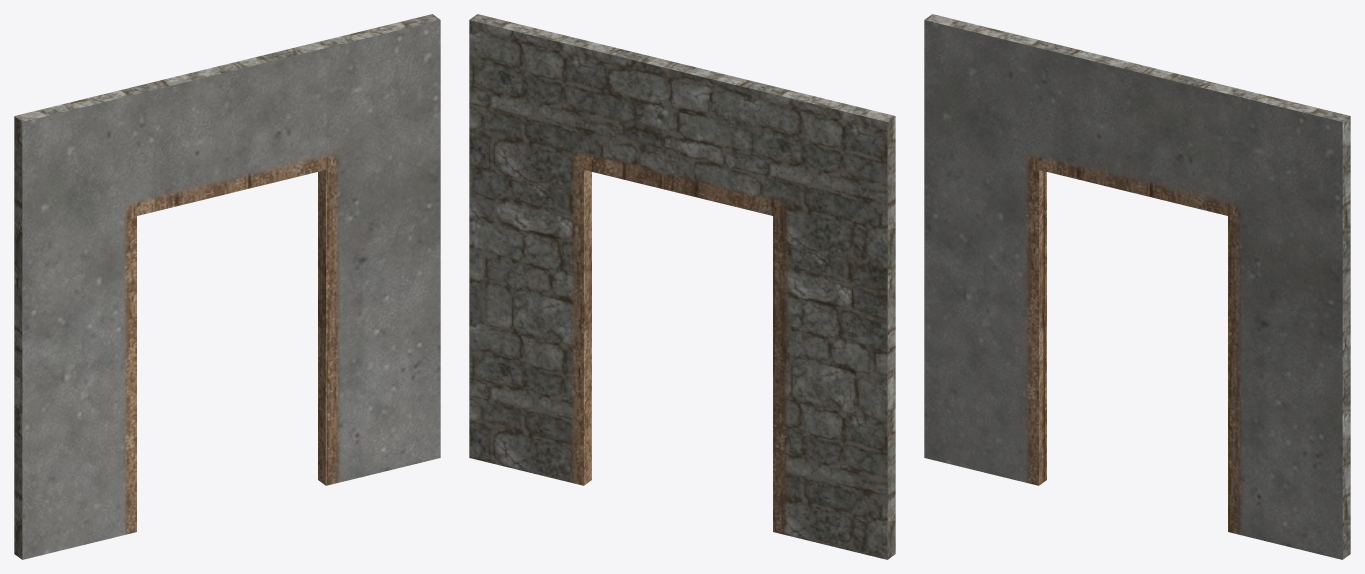
The model's file is stone_doorway_textured.glb.
3 renders of one model, left to right at view 1: azimuth 30°, elevation 25°; view 2: azimuth 150°, elevation 25°; view 3: azimuth 330°, elevation 25°, orthographic.
Visible parts, largest first — view 1: Cube.001; view 2: Cube.001; view 3: Cube.001.
Part boxes in pixels (left/top/right/bottom): Cube.001: left=14, top=14, right=440, bottom=559; Cube.001: left=469, top=14, right=895, bottom=559; Cube.001: left=924, top=14, right=1350, bottom=559.
Bounding box in the file's own units: 2 × 2 × 0.0681.
1 material, 1 textured.
